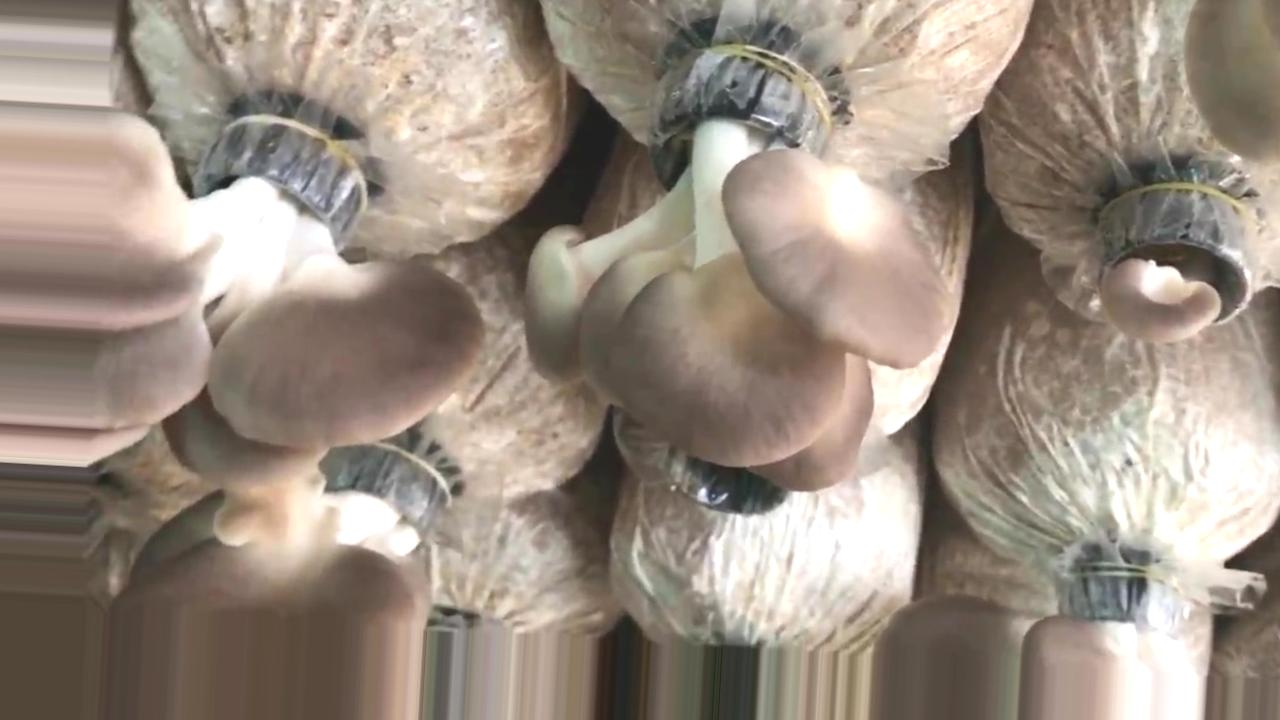nam: (523, 55, 951, 486), (1, 106, 484, 483), (106, 461, 441, 719), (874, 573, 1202, 720), (1097, 192, 1256, 342)
